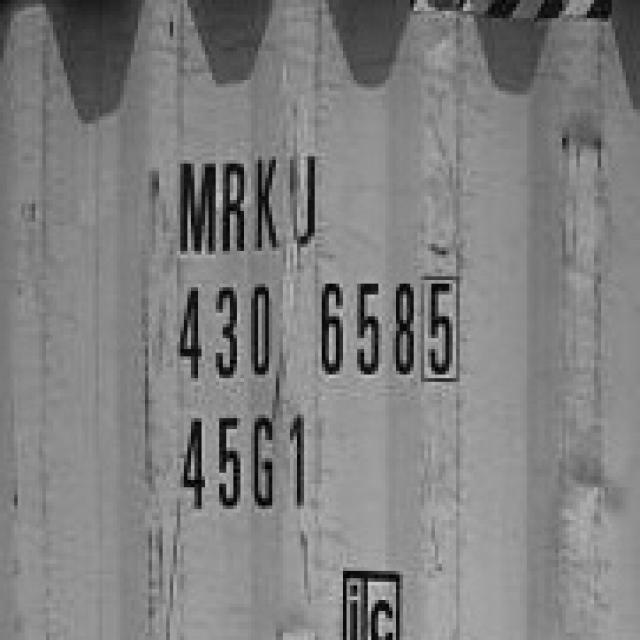dv: (419, 270, 471, 390)
owner: (170, 152, 331, 264)
serial: (172, 268, 417, 392)
size: (177, 405, 321, 522)
